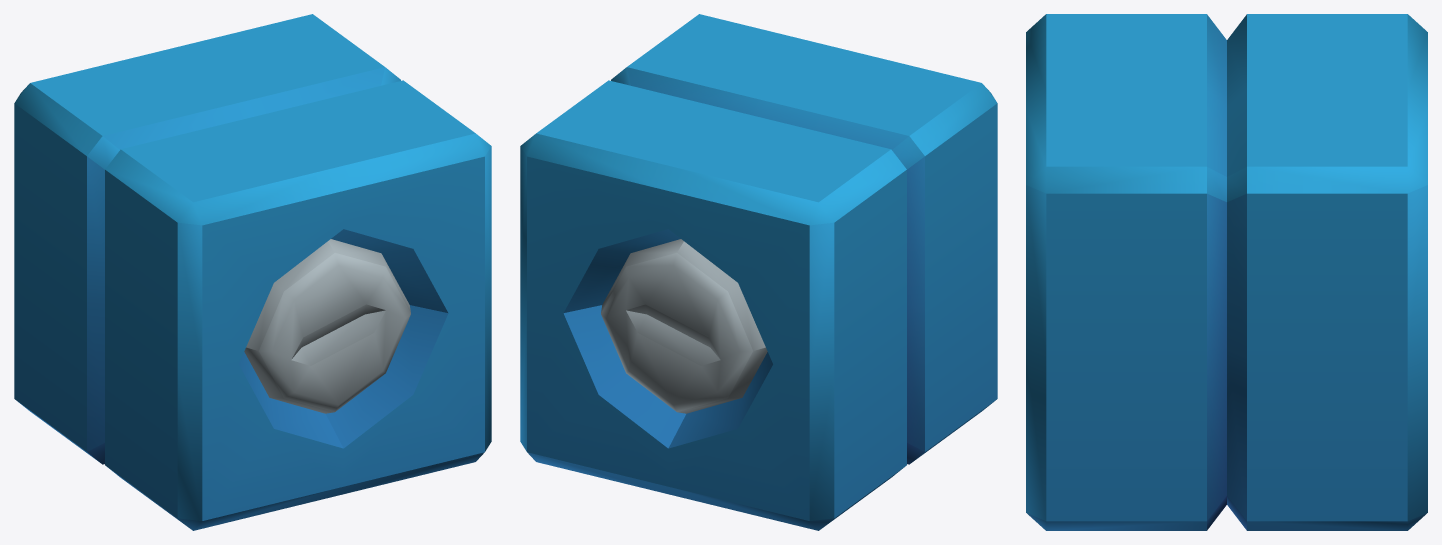
Rendered from platform_decorative_1x1x1_blue.glb.
3 views of the same model, side by side, from view 1: azimuth 30°, elevation 25°; view 2: azimuth 150°, elevation 25°; view 3: azimuth 270°, elevation 25° (orthographic). The views are drawn at different scales.
Parts seen in each view (by area): view 1: platform_decorative_1x1x1_blue; view 2: platform_decorative_1x1x1_blue; view 3: platform_decorative_1x1x1_blue.
Boxes of the visible parts, <box> form: platform_decorative_1x1x1_blue: <box>14,14,491,530</box>; platform_decorative_1x1x1_blue: <box>520,14,997,530</box>; platform_decorative_1x1x1_blue: <box>1026,14,1427,530</box>.
Bounding box in the file's own units: 1 × 1 × 1.
Materials: 1 (1 with a texture image).
